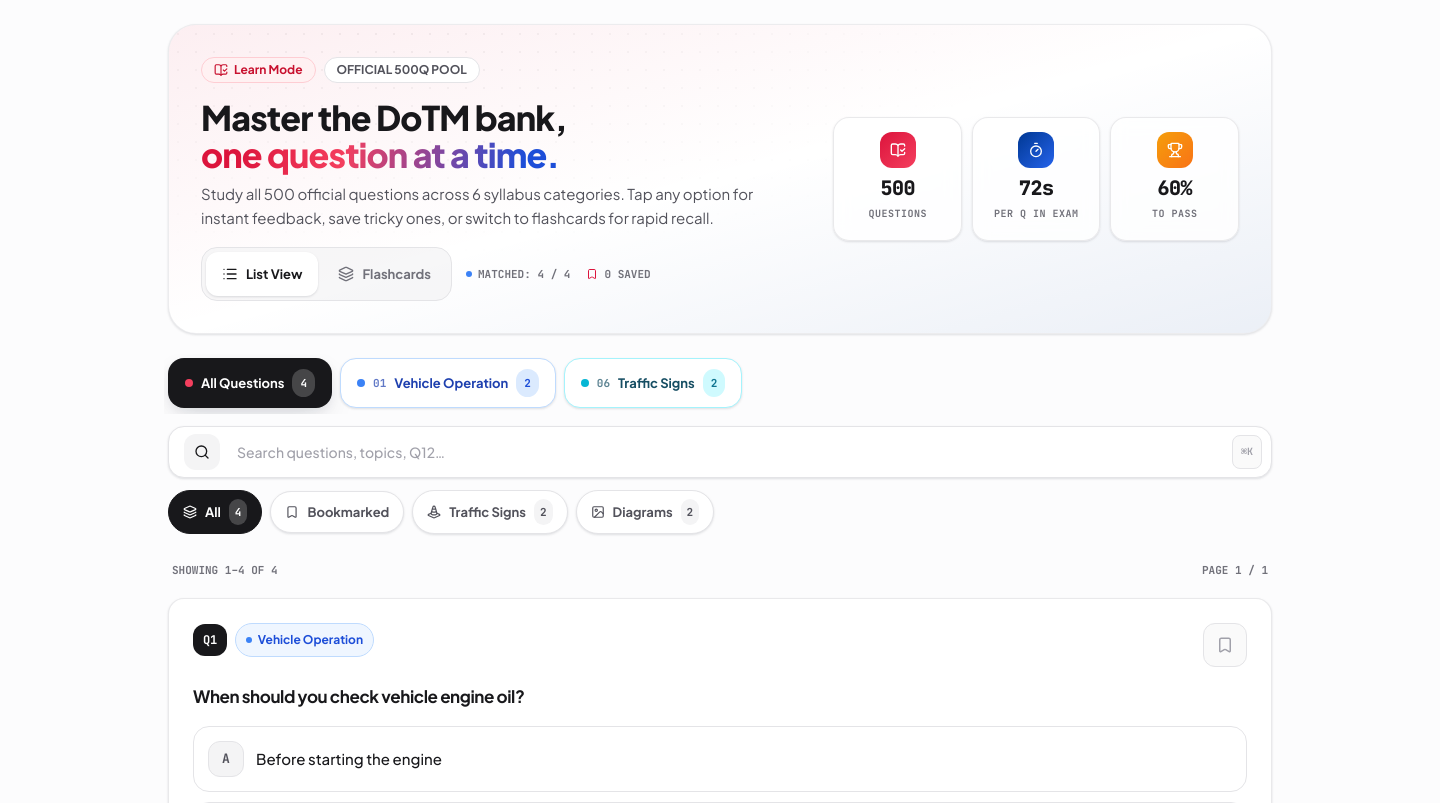
Scenario: LearnView Integration › switches between List View and Flashcard View
The image size is (1440, 803).
Note: Click Flashcards
Step 1. Click the button "Flashcards" → (385, 274), box [322,252,447,296]
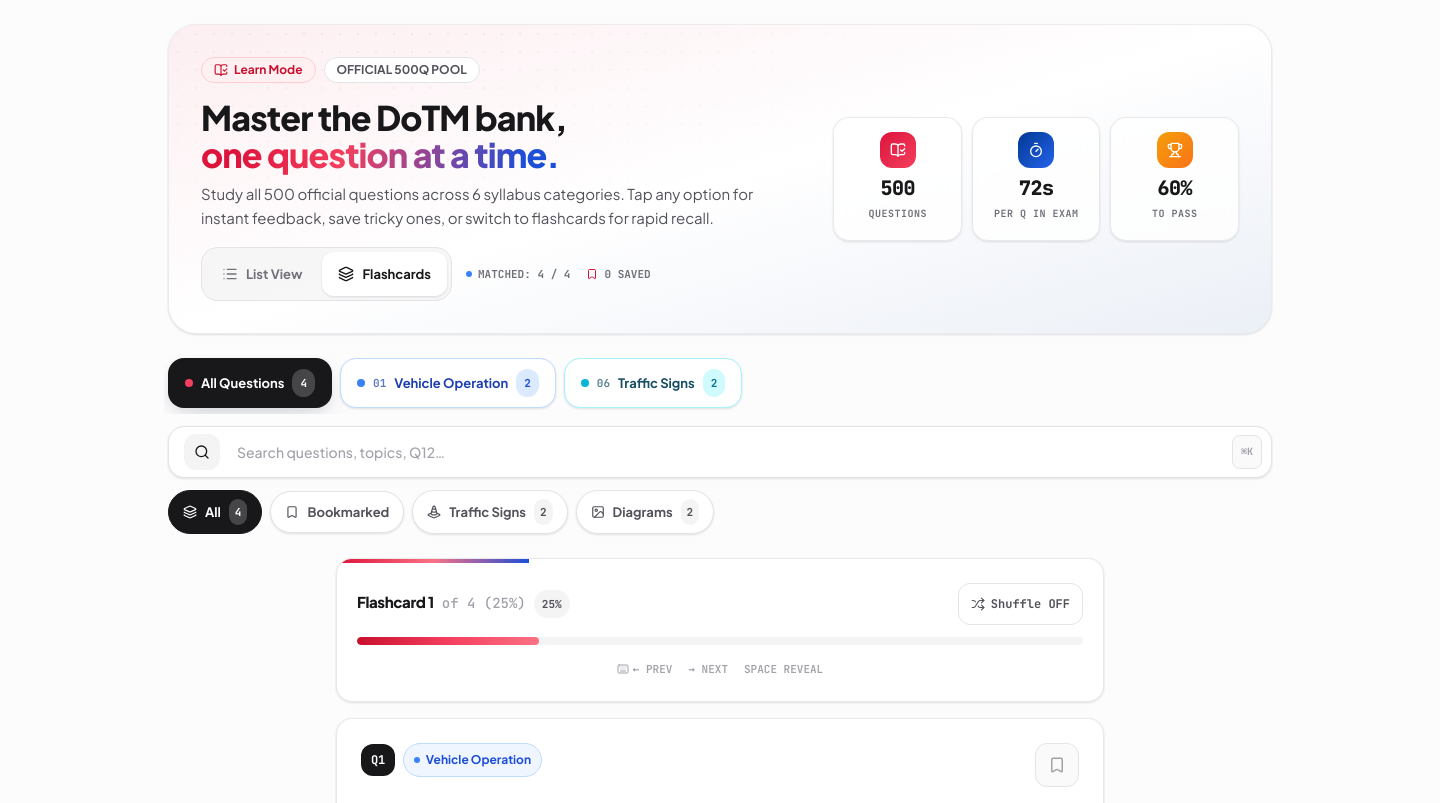
Check: the text "Flashcard 1" is shown, box [357,590,434,614]
Note: Click List View
Step 2. Click the button "List View" → (262, 274), box [206,252,318,296]
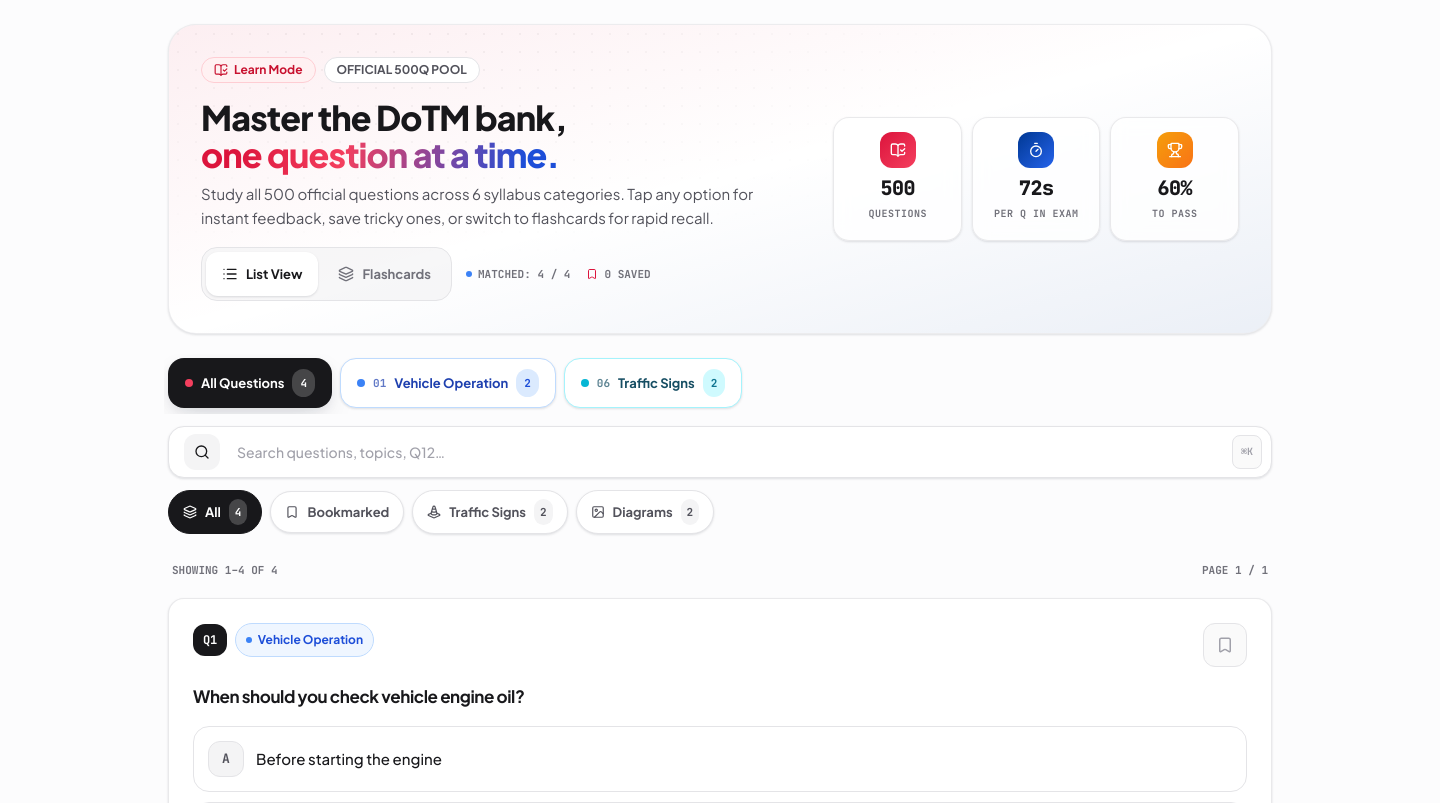
Check: the heading "When should you check vehicle engine oil?" is shown, box [193,684,524,706]
Check: the text "Flashcard 1" is gone
